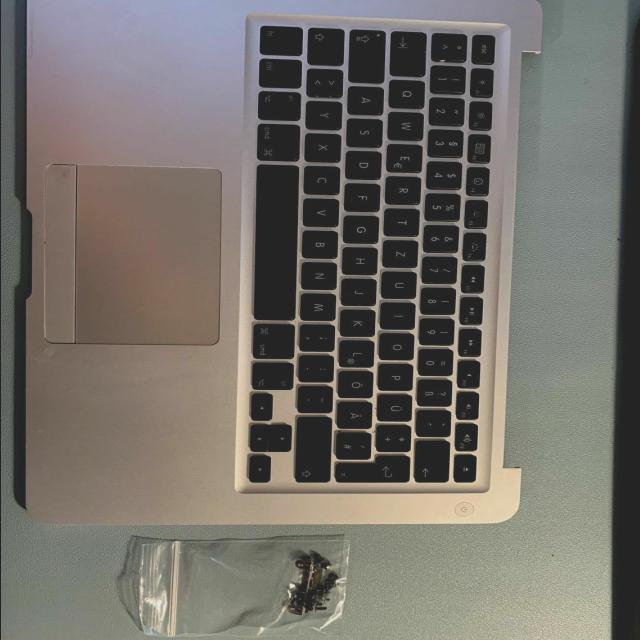0: (420, 348, 456, 376)
1: (432, 64, 468, 92)
2: (430, 96, 466, 124)
3: (430, 128, 466, 156)
4: (428, 160, 464, 188)
5: (427, 192, 463, 220)
6: (425, 224, 461, 252)
7: (424, 255, 460, 283)
8: (422, 286, 458, 314)
9: (421, 317, 457, 345)
a: (348, 85, 386, 114)
accent: (419, 409, 454, 436)
ae: (339, 400, 375, 428)
alt-left: (258, 90, 302, 120)
altgr-right: (252, 361, 296, 390)
b: (303, 230, 340, 258)
c: (305, 164, 343, 194)
caret: (433, 31, 469, 61)
comma: (301, 323, 338, 351)
d: (347, 149, 384, 179)
del: (416, 439, 452, 482)
e: (388, 143, 425, 172)
enter: (337, 454, 413, 482)
f: (346, 182, 382, 211)
g: (345, 214, 381, 242)
h: (343, 246, 380, 274)
hash: (338, 431, 374, 459)
i: (382, 301, 418, 329)
j: (344, 277, 380, 305)
k: (342, 308, 378, 336)
keyboard: (236, 15, 514, 497)
l: (341, 339, 377, 367)
less: (308, 67, 345, 97)
m: (302, 292, 339, 321)
minus: (300, 384, 336, 412)
n: (303, 261, 339, 289)
o: (381, 331, 417, 359)
oe: (340, 369, 376, 397)
p: (380, 362, 416, 390)
plus: (378, 424, 414, 452)
point: (301, 354, 337, 382)
q: (390, 78, 427, 108)
r: (387, 175, 424, 203)
s: (348, 117, 384, 147)
shift-left: (308, 27, 346, 65)
shift-lock: (350, 28, 387, 82)
shift-right: (297, 416, 334, 482)
space: (256, 163, 300, 319)
ss: (419, 378, 455, 406)
strg-left: (259, 57, 303, 88)
t: (386, 207, 422, 235)
tab: (390, 30, 428, 76)
u: (383, 270, 419, 298)
ue: (379, 393, 415, 421)
v: (304, 197, 342, 226)
w: (389, 110, 427, 139)
x: (306, 132, 343, 161)
y: (307, 100, 344, 129)
z: (384, 239, 420, 267)
